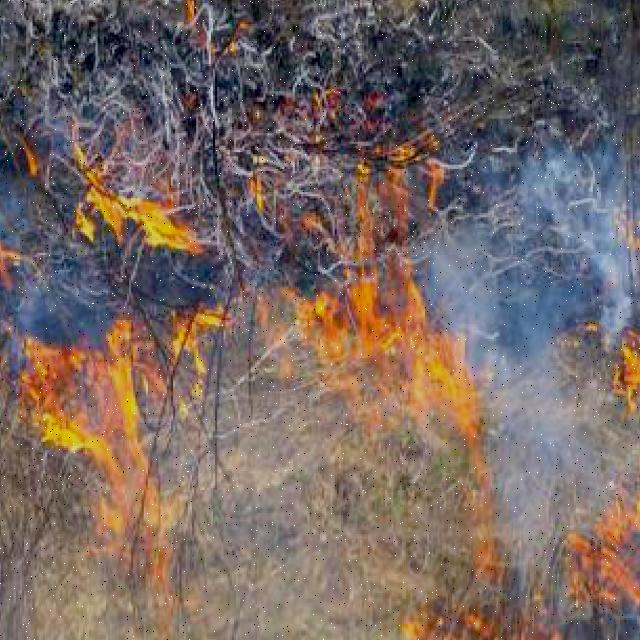fire: (24, 320, 180, 595), (296, 161, 412, 411), (410, 297, 494, 549), (64, 138, 196, 280)
